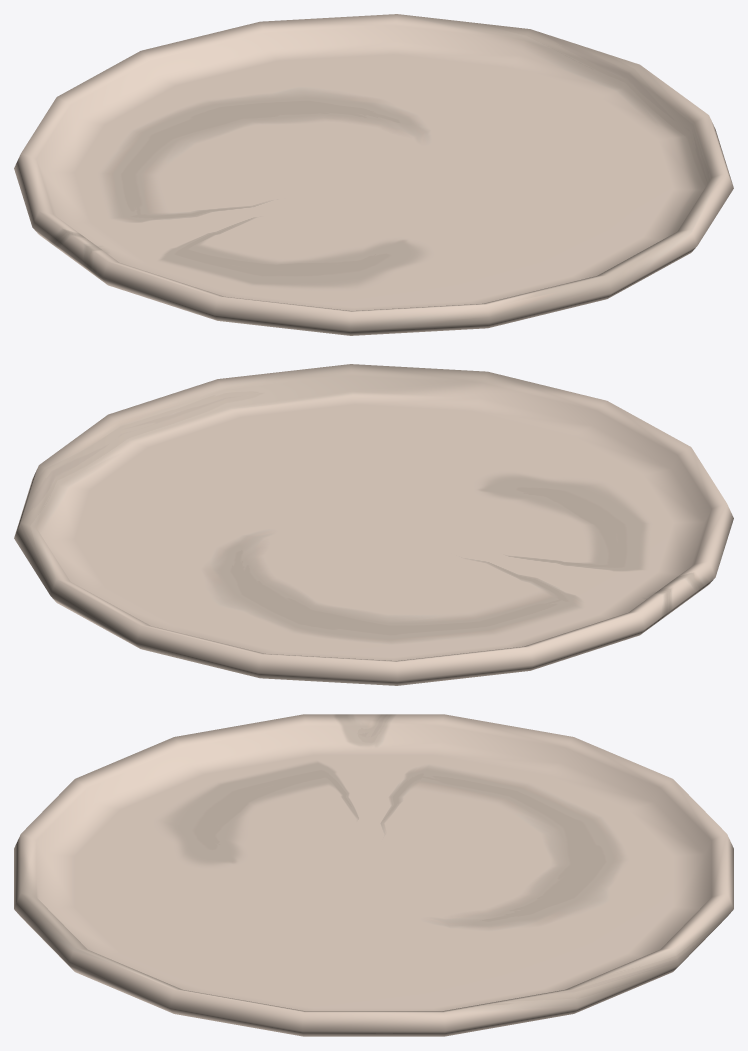
Rendered from Masa_plana.fbx.
3 views of the same model, one above another, from view 1: azimuth 30°, elevation 25°; view 2: azimuth 150°, elevation 25°; view 3: azimuth 270°, elevation 25° (orthographic).
Parts seen in each view (by area): view 1: masa_plana; view 2: masa_plana; view 3: masa_plana.
Part boxes in pixels (left/top/right/bottom): masa_plana: left=14, top=14, right=733, bottom=335; masa_plana: left=14, top=364, right=733, bottom=685; masa_plana: left=14, top=714, right=733, bottom=1036.
Size of the model in its own units: 2573 by 94.37 by 2573.
